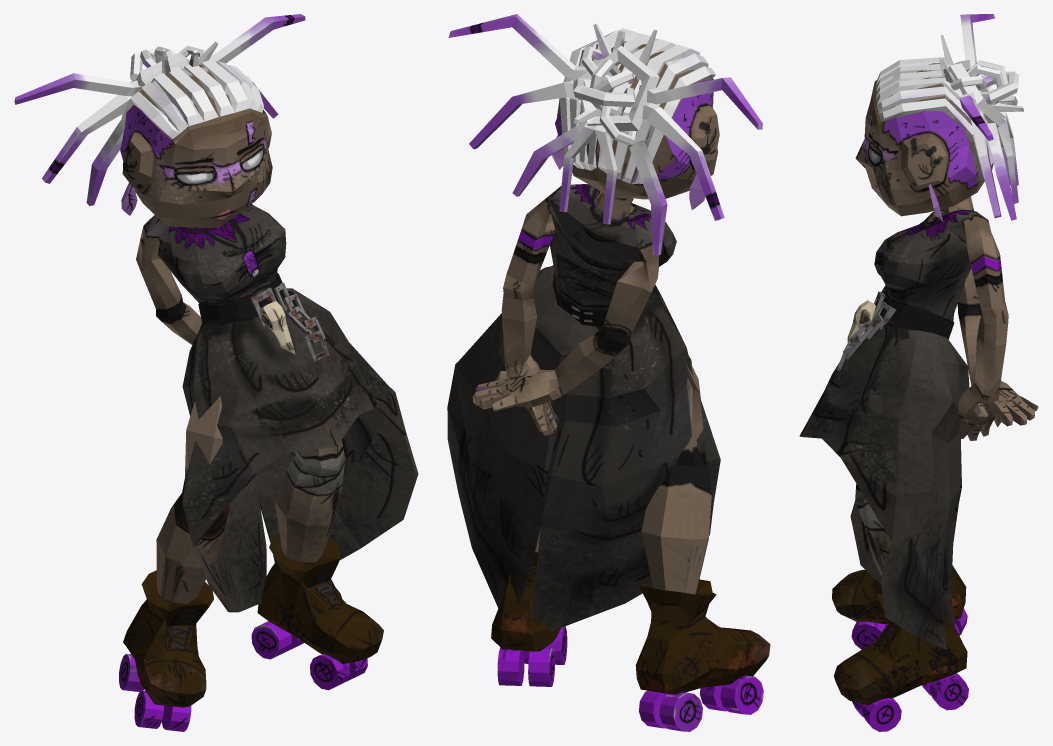
File: bruja_000033.obj
3 renders of one model, left to right at view 1: azimuth 30°, elevation 25°; view 2: azimuth 150°, elevation 25°; view 3: azimuth 270°, elevation 25°, orthographic. The views are drawn at different scales.
Visible parts, largest first — view 1: Bruja_Plane.001; view 2: Bruja_Plane.001; view 3: Bruja_Plane.001.
Part boxes in pixels (x1=…): Bruja_Plane.001: x1=14, y1=14, x2=418, y2=731; Bruja_Plane.001: x1=447, y1=14, x2=770, y2=731; Bruja_Plane.001: x1=799, y1=14, x2=1038, y2=731.
Bounding box in the file's own units: 8.95 × 16 × 5.54.
